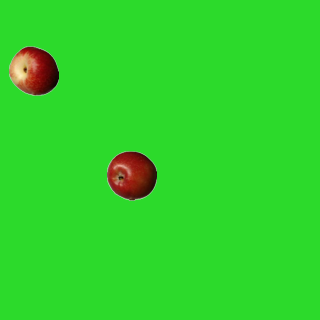Apple Braeburn: (106, 150, 156, 200)
Nectarine: (8, 45, 58, 95)
